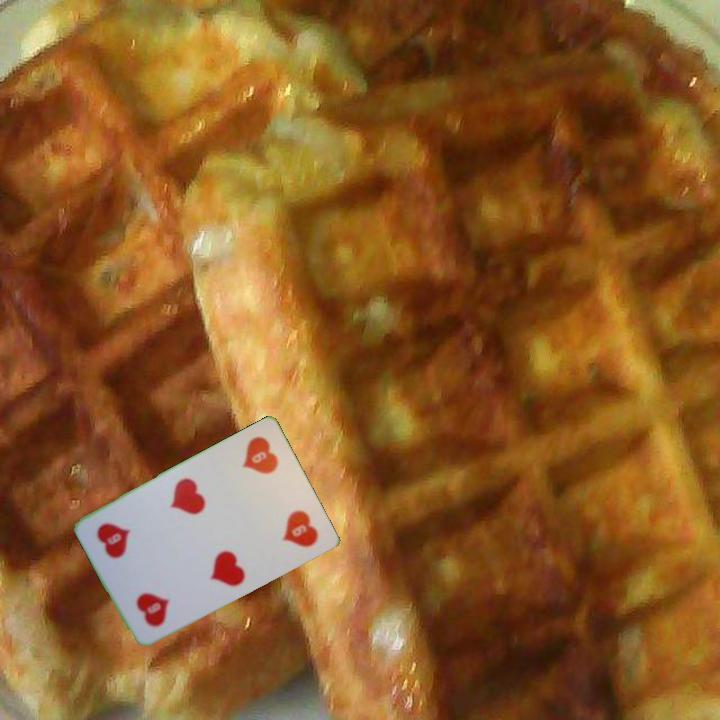h_6.png: (218, 427, 299, 512), (112, 553, 192, 638)
